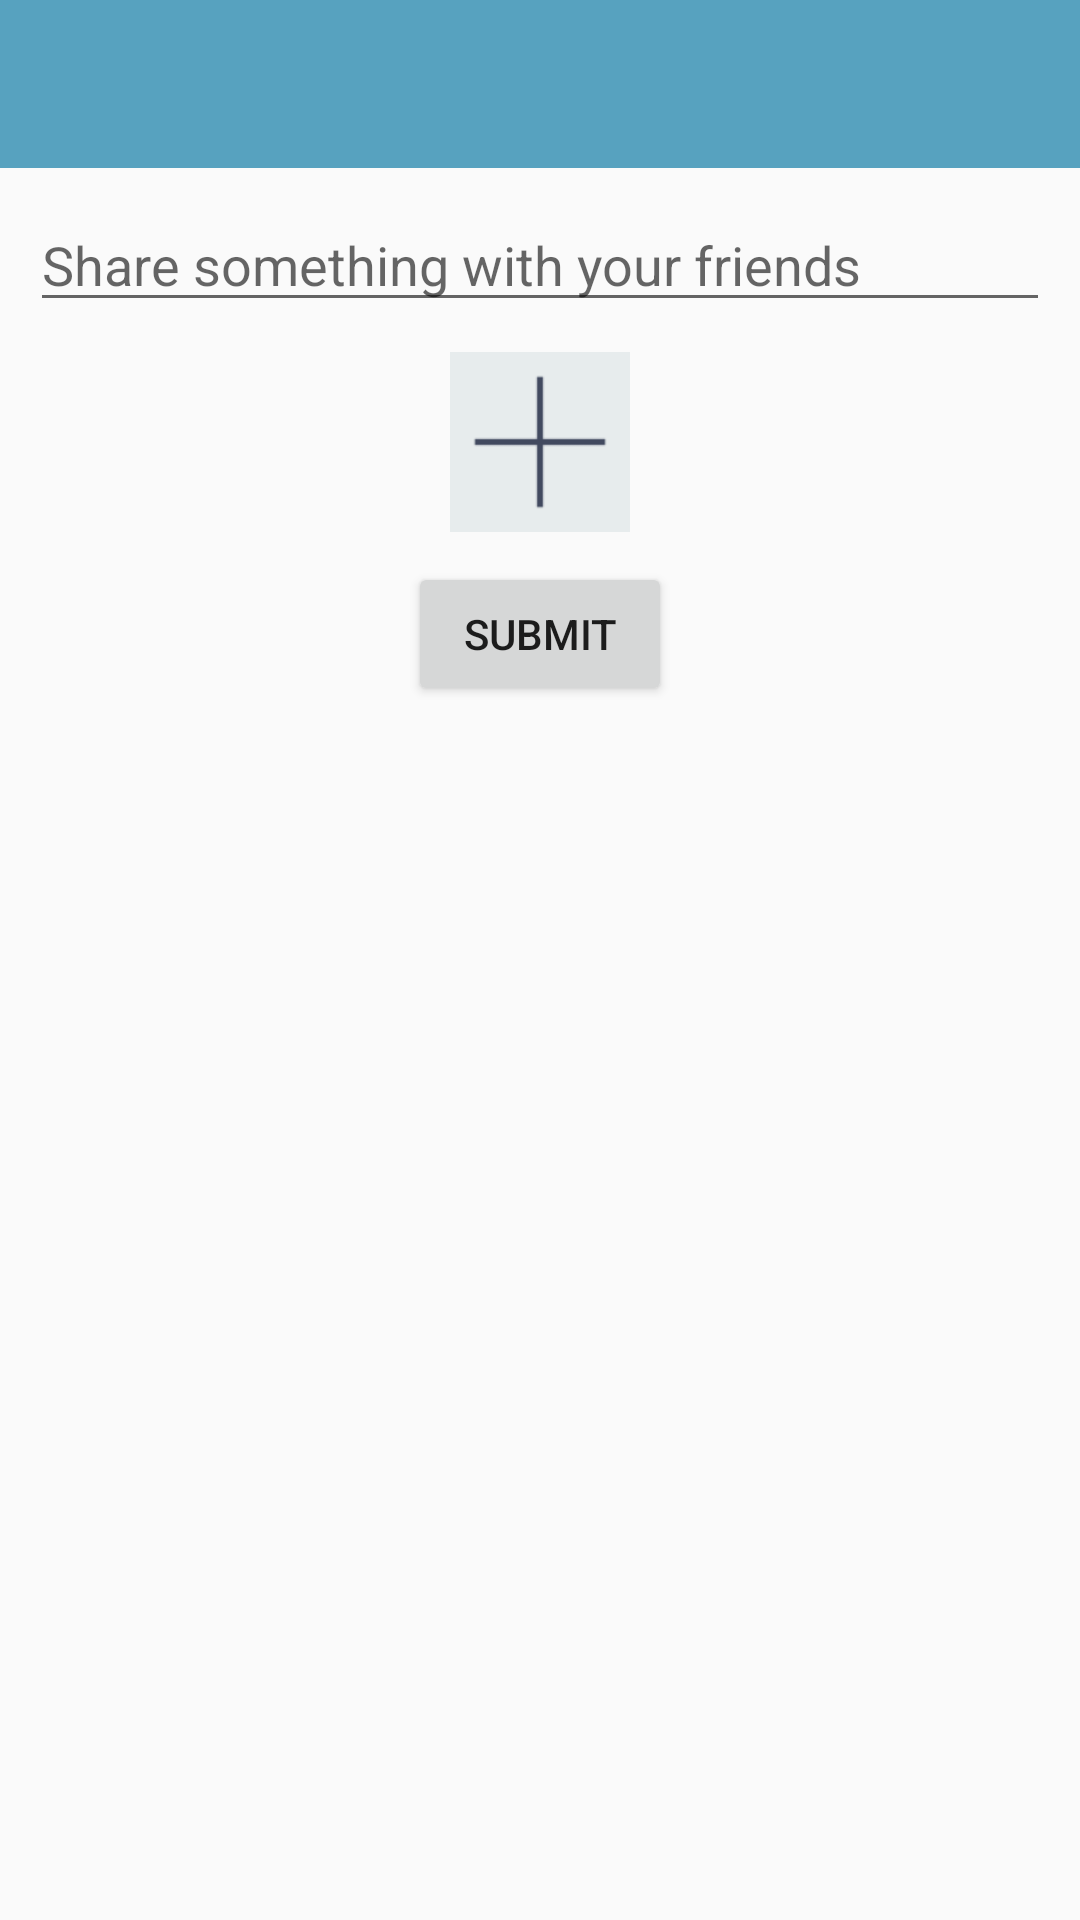

Locate icon controls on the screen. Image size 1080px×1920px, boxes as rect(x1, y1, x2, y2).
add moment: rect(450, 352, 630, 532)
